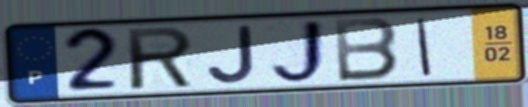2: (57, 25, 129, 98)
B: (331, 16, 402, 84)
I: (413, 16, 435, 78)
J: (266, 17, 333, 87), (203, 23, 258, 86)
R: (123, 24, 196, 93)
